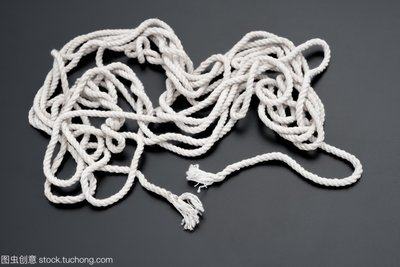9/可回收垃圾/绳子: (27, 16, 364, 232)
